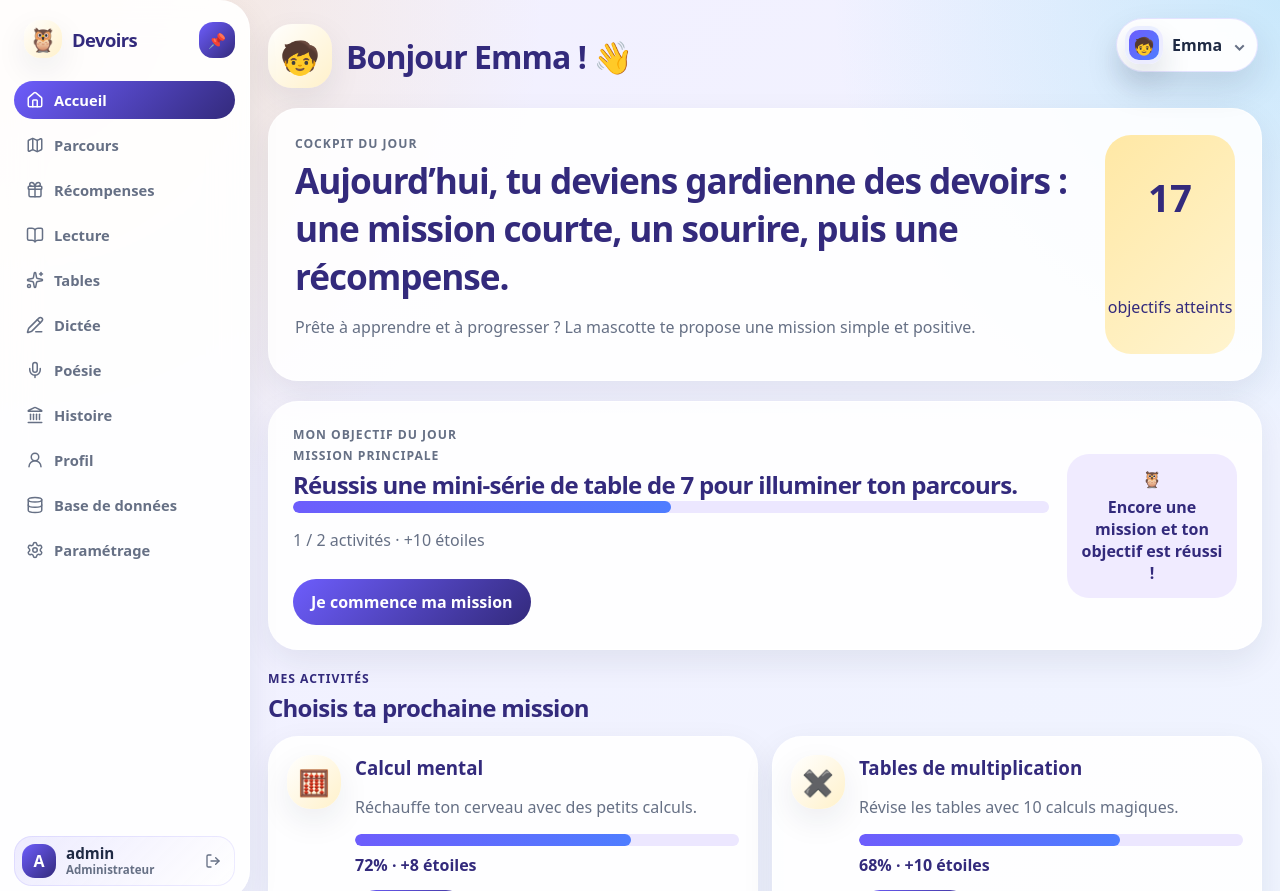
Page Profil famille › affiche un en-tête famille avec niveau et profil actif sans casser la sidebar
Click the button "Profil" at point(124, 460), box [14,441,235,479]
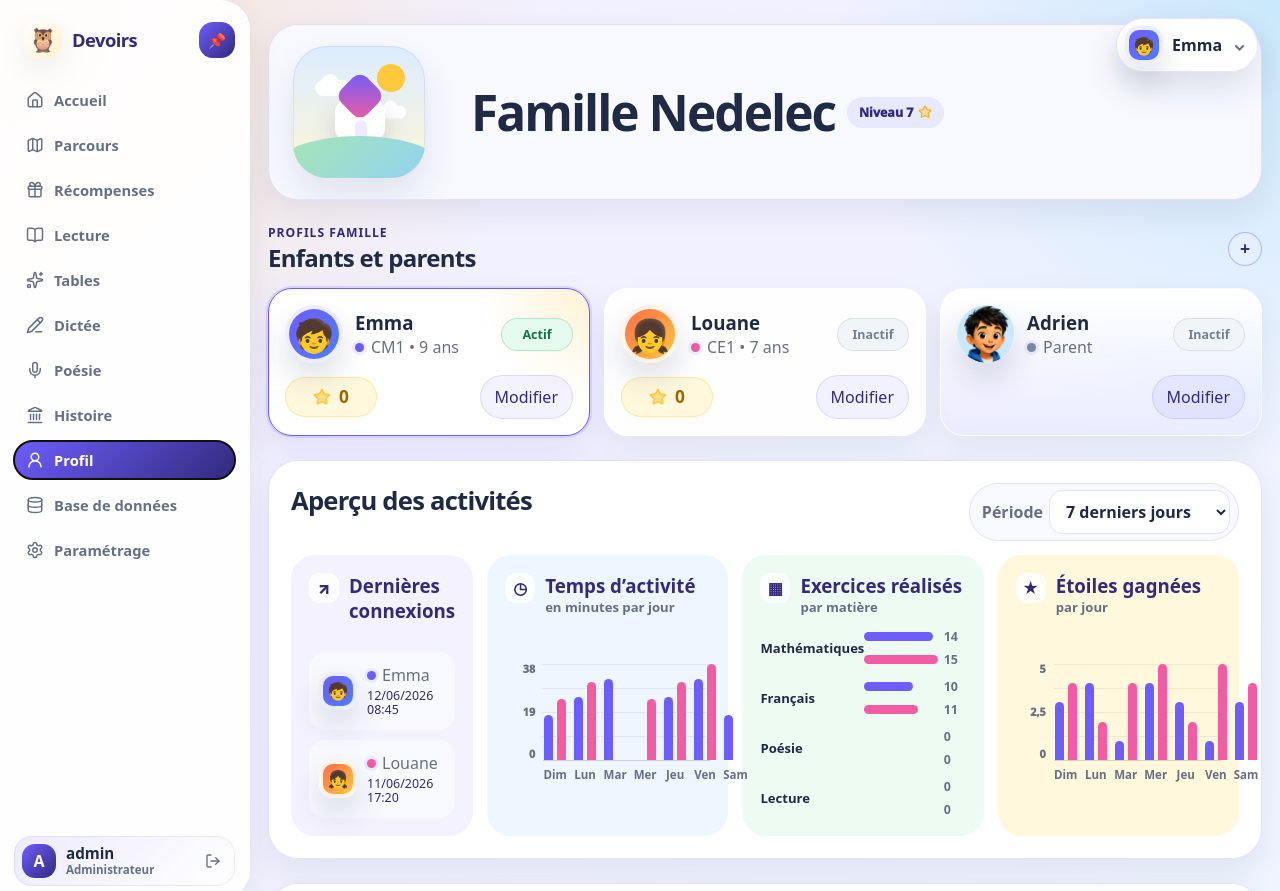
Expected: the button "Accueil" is shown, [14,81,235,119]
Result: the button named "modifier l’image de la famille" is shown at [293,46,425,178]
Result: the button with aria-label "modifier le nom de la famille" is shown at [471,78,835,146]
